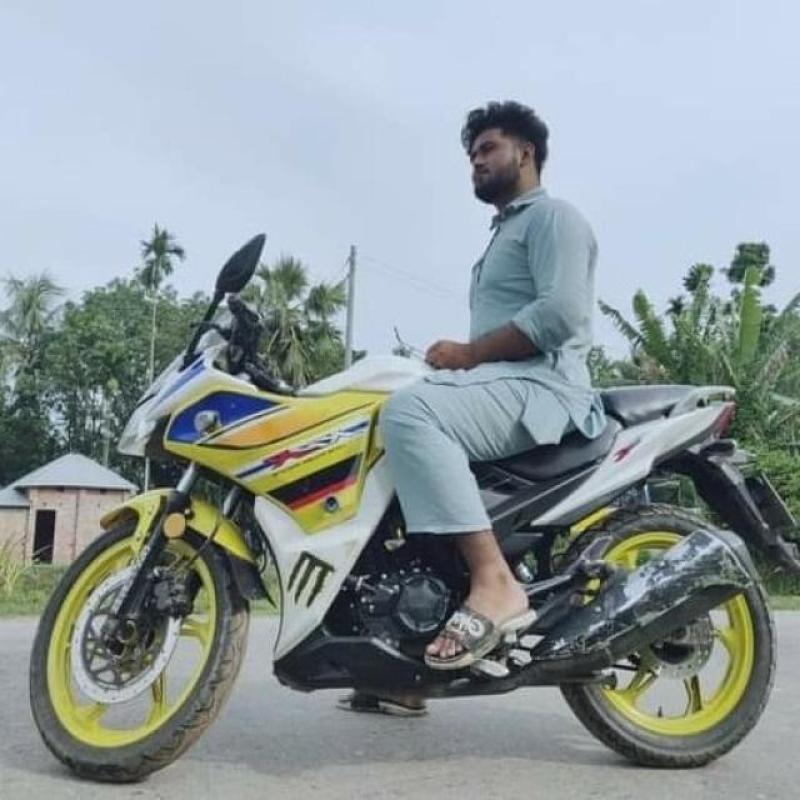nohelmet: (443, 89, 569, 237)
